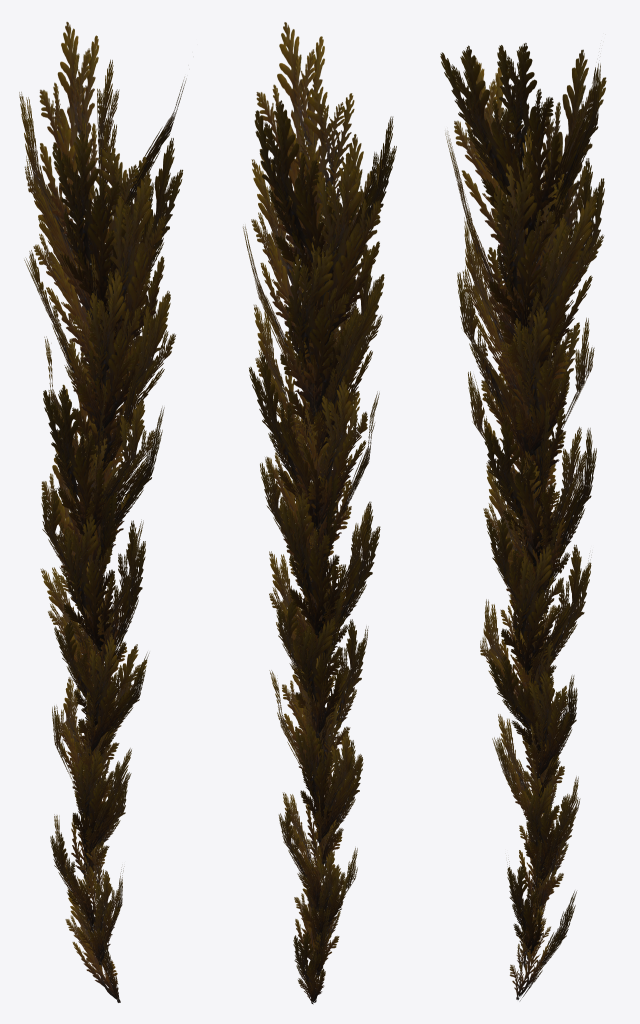
The model's file is seagrass3.glb.
3 views of the same model, side by side, from view 1: azimuth 30°, elevation 25°; view 2: azimuth 150°, elevation 25°; view 3: azimuth 270°, elevation 25° (orthographic). The views are drawn at different scales.
Parts seen in each view (by area): view 1: SeaWeed01_high.2; view 2: SeaWeed01_high.2; view 3: SeaWeed01_high.2.
Part boxes in pixels (left/top/right/bottom): SeaWeed01_high.2: left=19, top=22, right=186, bottom=1002; SeaWeed01_high.2: left=243, top=22, right=396, bottom=1004; SeaWeed01_high.2: left=440, top=43, right=606, bottom=1000.
Bounding box in the file's own units: 252 × 1414 × 255.
1 material, 1 textured.
